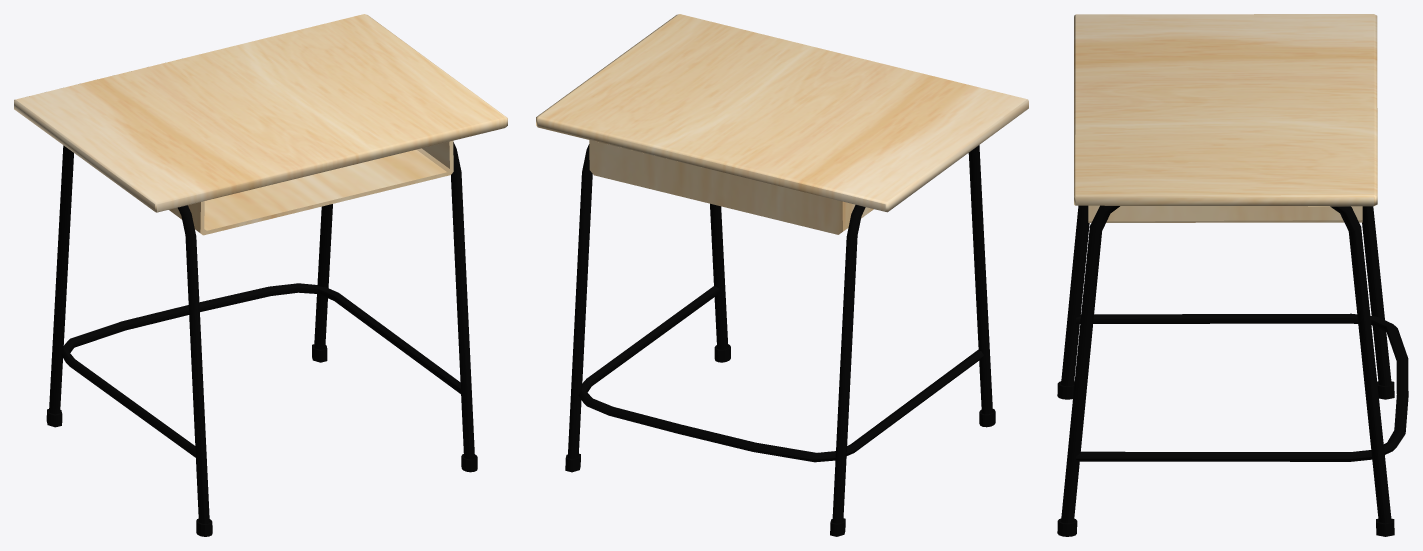
File: SCH0110022.fbx
3 renders of one model, left to right at view 1: azimuth 30°, elevation 25°; view 2: azimuth 150°, elevation 25°; view 3: azimuth 270°, elevation 25°, orthographic. The views are drawn at different scales.
Parts seen in each view (by area): view 1: smSCH0110022; view 2: smSCH0110022; view 3: smSCH0110022.
Part boxes in pixels (x1=…): smSCH0110022: x1=14, y1=14, x2=507, y2=536; smSCH0110022: x1=536, y1=14, x2=1028, y2=536; smSCH0110022: x1=1057, y1=14, x2=1408, y2=536.
Bounding box in the file's own units: 106 × 97.58 × 86.27.
1 material, 1 textured.
